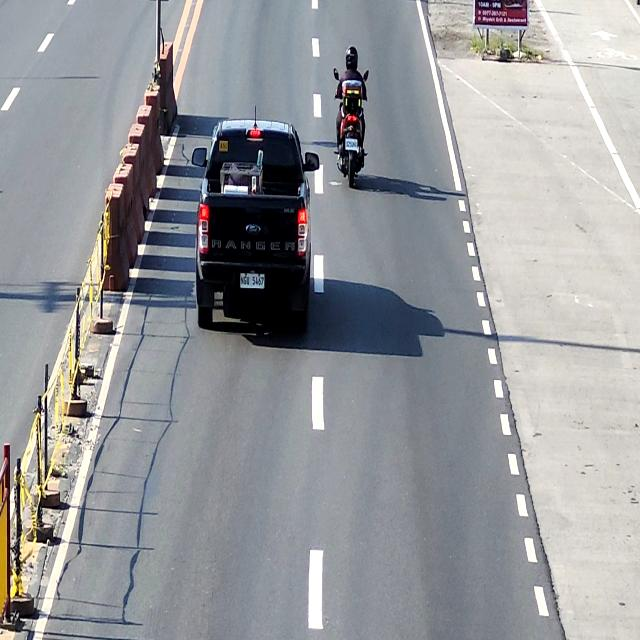Car: (192, 119, 321, 332)
License-Plate: (240, 273, 265, 289), (345, 138, 358, 150)
Motorcycle: (333, 68, 369, 188)
